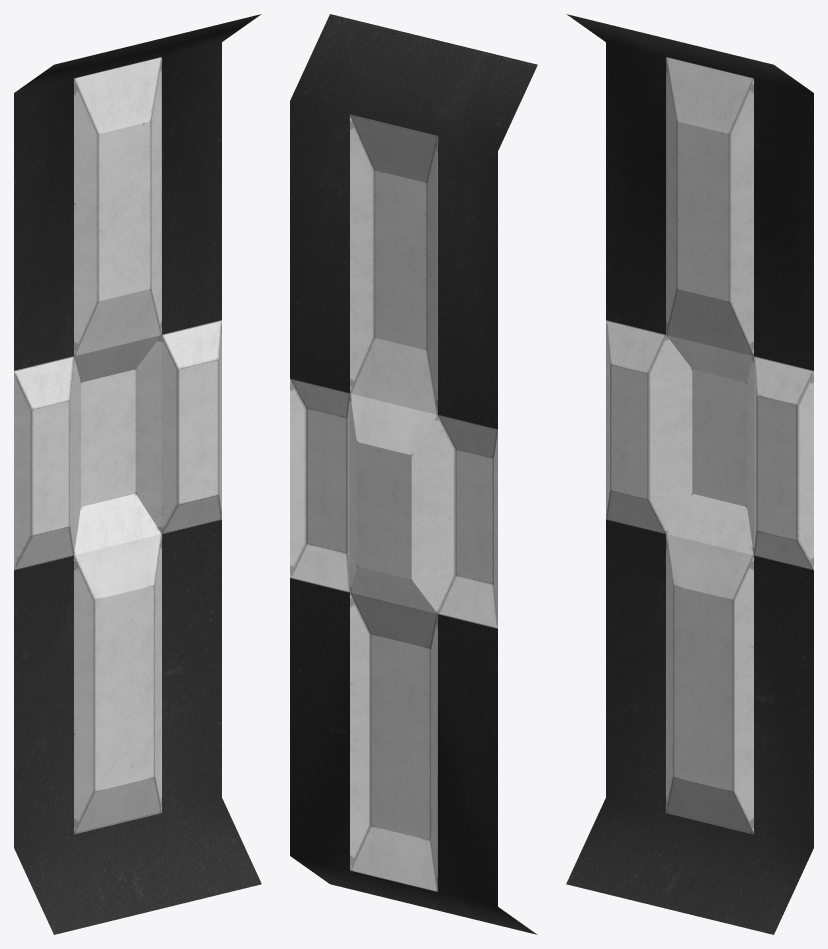
File: P_CorridorWall_1x4_Hole.fbx
3 views of the same model, side by side, from view 1: azimuth 30°, elevation 25°; view 2: azimuth 150°, elevation 25°; view 3: azimuth 330°, elevation 25° (orthographic).
Visible parts, largest first — view 1: CorridorWall_1x4_Hole; view 2: CorridorWall_1x4_Hole; view 3: CorridorWall_1x4_Hole.
Part boxes in pixels (bbox=[...]): CorridorWall_1x4_Hole: bbox=[14, 14, 261, 934]; CorridorWall_1x4_Hole: bbox=[290, 14, 537, 934]; CorridorWall_1x4_Hole: bbox=[566, 14, 813, 934].
Bounding box in the file's own units: 100 × 400 × 41.38.
